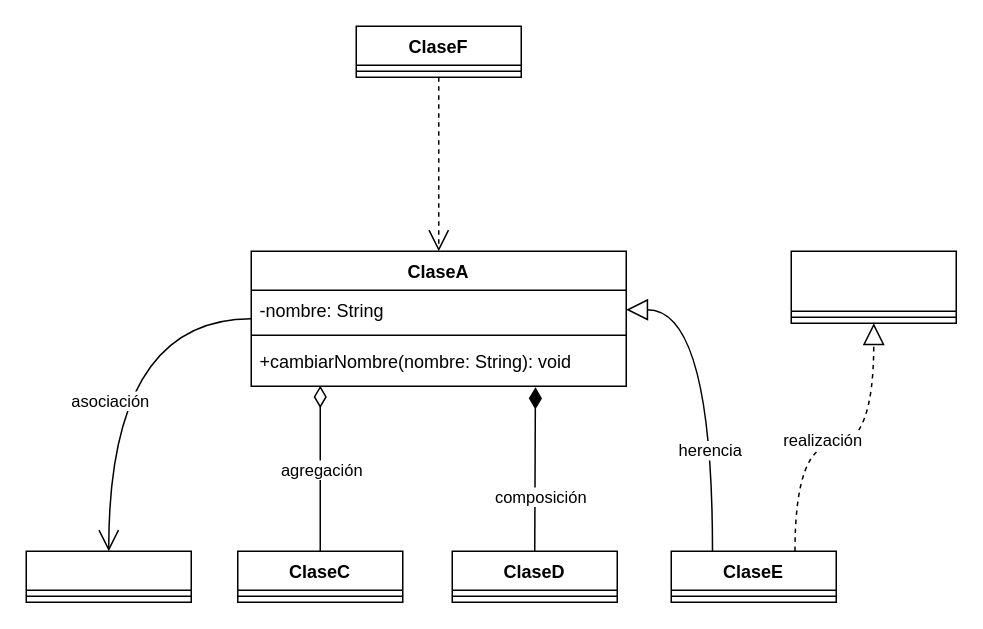
The diagram is 983 pixels wide and 629 high, and some of its shapes have lost their labels. The centre of each missing label's shape, as x and y in pixels:
"<<interface>> Interfaz" belongs at pixel 873 286.
"ClaseB" belongs at pixel 108 576.
